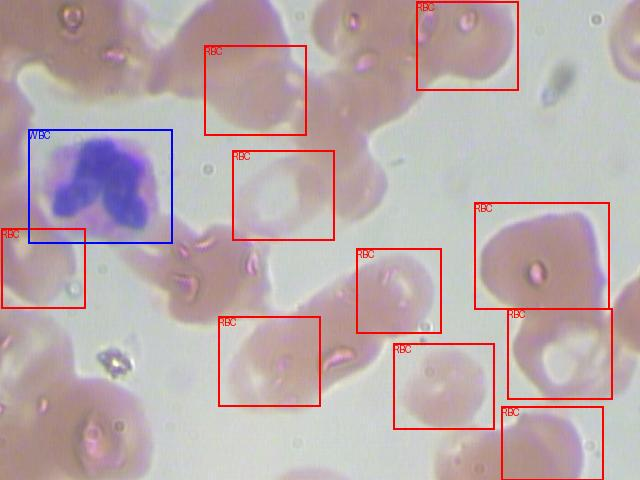RBC: (474, 202, 609, 309), (507, 308, 612, 399), (232, 150, 334, 240), (204, 45, 306, 135), (218, 316, 320, 406), (416, 1, 518, 90), (393, 343, 494, 429), (501, 406, 603, 480), (356, 248, 441, 333), (1, 228, 85, 308)
WBC: (28, 129, 172, 243)
